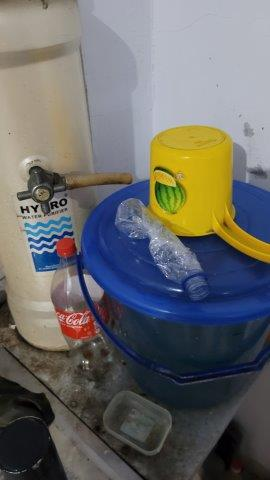botolplastik: (112, 195, 208, 302), (48, 240, 111, 381)
